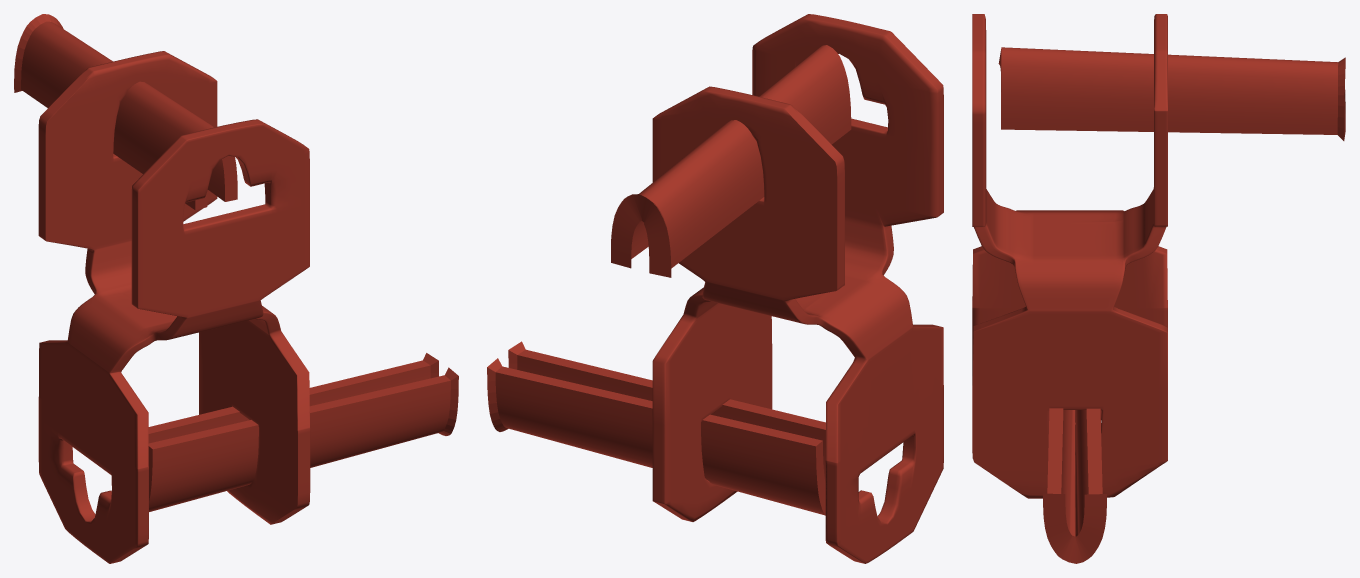
Rendered from double_coupler.glb.
3 views of the same model, side by side, from view 1: azimuth 30°, elevation 25°; view 2: azimuth 150°, elevation 25°; view 3: azimuth 270°, elevation 25° (orthographic). The views are drawn at different scales.
Visible parts, largest first — view 1: Box001, objct002, objct1; view 2: Box001, objct002, objct1; view 3: Box001, objct1, objct002.
Boxes of the visible parts, bbox=[...] form: Box001: bbox=[38, 51, 310, 563]; objct002: bbox=[148, 353, 458, 511]; objct1: bbox=[14, 14, 237, 210]; Box001: bbox=[652, 14, 943, 563]; objct002: bbox=[487, 341, 825, 515]; objct1: bbox=[611, 45, 851, 277]; Box001: bbox=[972, 14, 1167, 498]; objct1: bbox=[998, 47, 1345, 140]; objct002: bbox=[1043, 408, 1106, 563].
Bounding box in the file's own units: 0.1455 × 0.1681 × 0.1335.
Materials: 1 (1 with a texture image).
